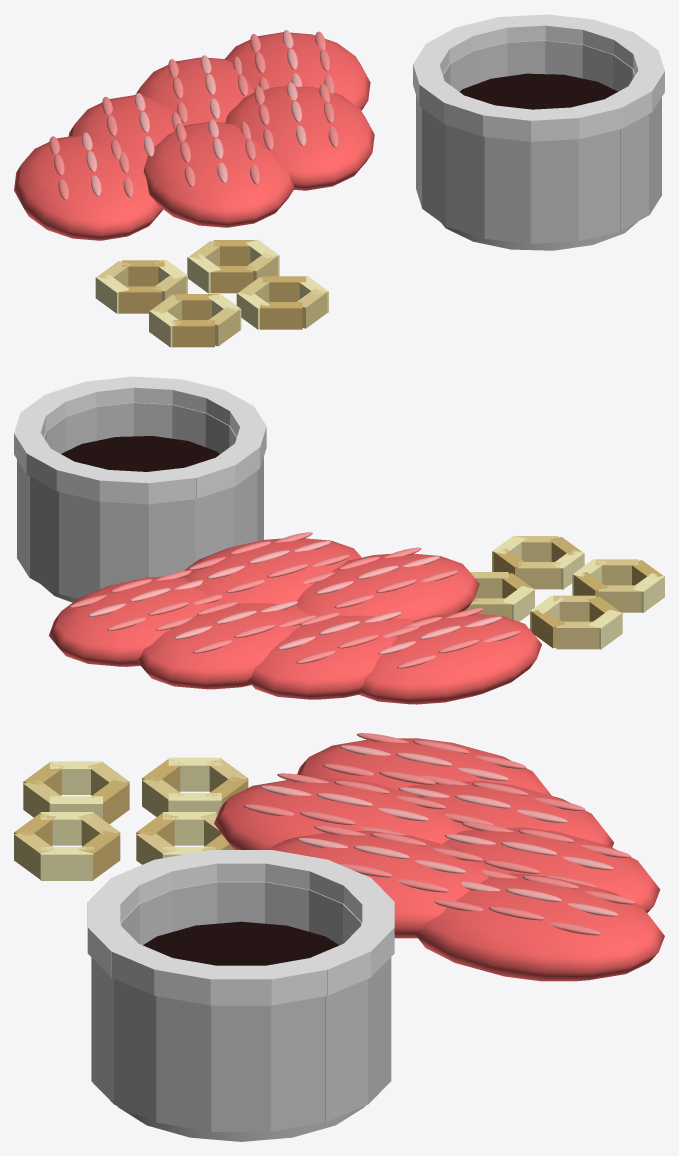
File: CMU3DFoodMealSashimiExtraCloud.glb
3 renders of one model, top to bottom at view 1: azimuth 30°, elevation 25°; view 2: azimuth 150°, elevation 25°; view 3: azimuth 270°, elevation 25°, orthographic. The views are drawn at different scales.
Visible parts, largest first — view 1: sashimi fish slice 5, sashimi fish slice 1, sashimi fish slice 6, sashimi fish slice 4, dipping cup open wall 12, dipping cup open wall 11, dipping cup open wall 13, sashimi fish slice 3, recessed dark dipping sauce, dipping cup open wall 10, sashimi fish slice 2, dipping cup open wall 14 (+42 smaller); view 2: sashimi fish slice 1, sashimi fish slice 3, sashimi fish slice 2, sashimi fish slice 4, sashimi fish slice 5, sashimi fish slice 6, dipping cup open wall 05, recessed dark dipping sauce, dipping cup open wall 06, dipping cup open wall 07, dipping cup open wall 04, dipping cup open wall 08 (+40 smaller); view 3: sashimi fish slice 4, sashimi fish slice 5, sashimi fish slice 6, dipping cup open wall 01, dipping cup open wall 02, dipping cup open wall 16, sashimi fish slice 3, sashimi fish slice 1, recessed dark dipping sauce, dipping cup open wall 03, dipping cup open wall 15, sashimi fish slice 2 (+44 smaller).
Boxes of the visible parts, x1=… form: sashimi fish slice 5: x1=143, y1=122, x2=294, y2=227; sashimi fish slice 1: x1=14, y1=136, x2=162, y2=240; sashimi fish slice 6: x1=225, y1=85, x2=374, y2=190; sashimi fish slice 4: x1=224, y1=32, x2=370, y2=110; dipping cup open wall 12: x1=530, y1=139, x2=578, y2=243; dipping cup open wall 11: x1=484, y1=136, x2=531, y2=243; dipping cup open wall 13: x1=578, y1=129, x2=620, y2=241; sashimi fish slice 3: x1=135, y1=57, x2=254, y2=124; recessed dark dipping sauce: x1=460, y1=73, x2=617, y2=109; dipping cup open wall 10: x1=446, y1=124, x2=484, y2=238; sashimi fish slice 2: x1=68, y1=95, x2=189, y2=167; dipping cup open wall 14: x1=620, y1=114, x2=649, y2=230; sashimi fish slice 1: x1=358, y1=614, x2=541, y2=704; sashimi fish slice 3: x1=136, y1=603, x2=308, y2=689; sashimi fish slice 2: x1=248, y1=615, x2=413, y2=699; sashimi fish slice 4: x1=49, y1=576, x2=218, y2=666; sashimi fish slice 5: x1=295, y1=553, x2=479, y2=620; sashimi fish slice 6: x1=184, y1=538, x2=361, y2=604; dipping cup open wall 05: x1=59, y1=492, x2=100, y2=598; recessed dark dipping sauce: x1=61, y1=436, x2=219, y2=471; dipping cup open wall 06: x1=100, y1=501, x2=148, y2=588; dipping cup open wall 07: x1=148, y1=499, x2=195, y2=577; dipping cup open wall 04: x1=29, y1=476, x2=58, y2=593; dipping cup open wall 08: x1=195, y1=487, x2=233, y2=561; sashimi fish slice 4: x1=415, y1=873, x2=664, y2=981; sashimi fish slice 5: x1=214, y1=778, x2=462, y2=849; sashimi fish slice 6: x1=266, y1=831, x2=491, y2=938; dipping cup open wall 01: x1=211, y1=1005, x2=271, y2=1131; dipping cup open wall 02: x1=270, y1=996, x2=326, y2=1131; dipping cup open wall 16: x1=156, y1=996, x2=211, y2=1131; sashimi fish slice 3: x1=442, y1=827, x2=660, y2=912; sashimi fish slice 1: x1=297, y1=738, x2=551, y2=795; recessed dark dipping sauce: x1=143, y1=921, x2=339, y2=965; dipping cup open wall 03: x1=325, y1=979, x2=367, y2=1122; dipping cup open wall 15: x1=114, y1=979, x2=156, y2=1122; sashimi fish slice 2: x1=407, y1=781, x2=613, y2=847.
Size of the model in its own units: 0.6931 by 0.1635 by 0.5648.
